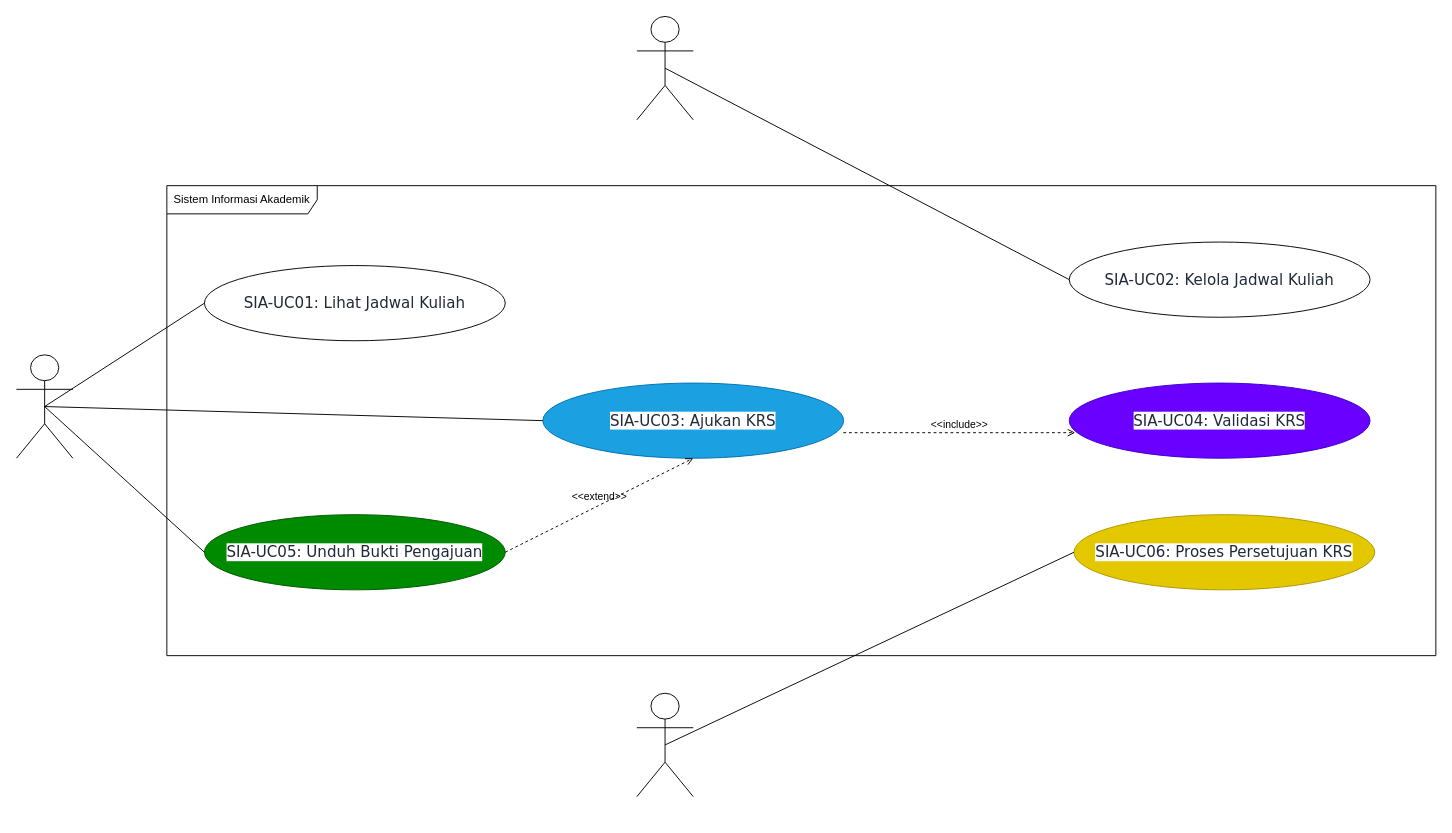
This 1452x833 diagram has some shape labels left out. The centre of each missing label's shape, as x and y in pixels:
"Admin Akademik" goes at pixel 664 68.
"Dosen Wali" goes at pixel 664 744.
"Mahasiswa" goes at pixel 44 406.
